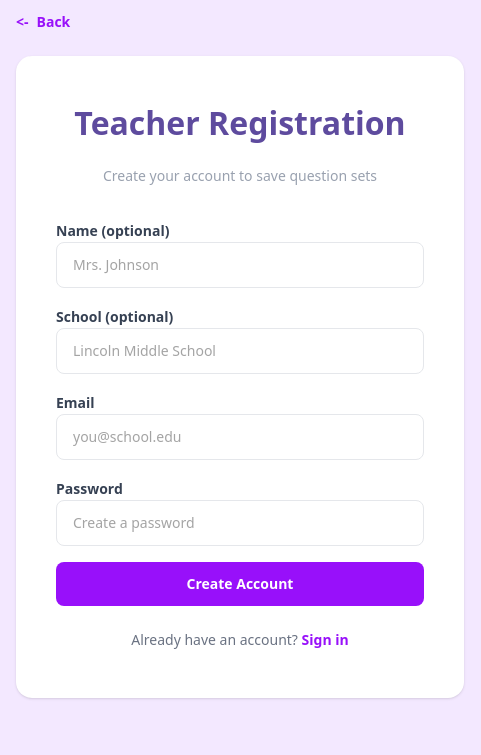
Test: HostRegister › shows a validation error when required fields are missing
What coordinates should you click on to do the following:
click the button "Create Account"
I would click on:
 (240, 584)
Its box is 56,562 -> 424,606.
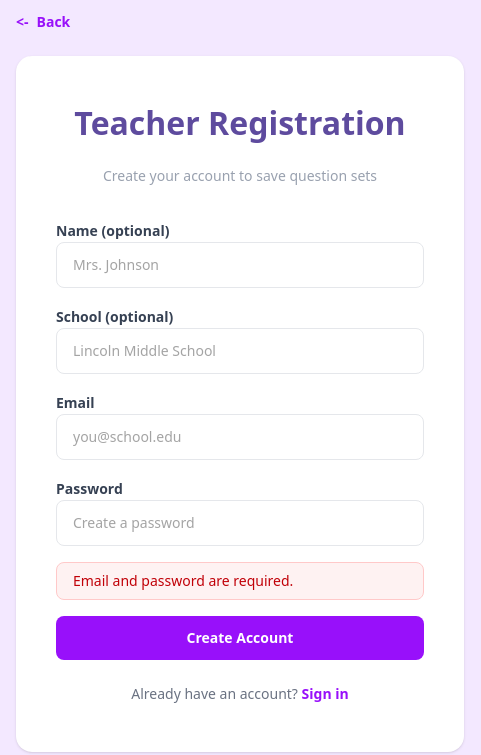
Expected: the text "Email and password are required." is shown, 56,562 -> 424,600
